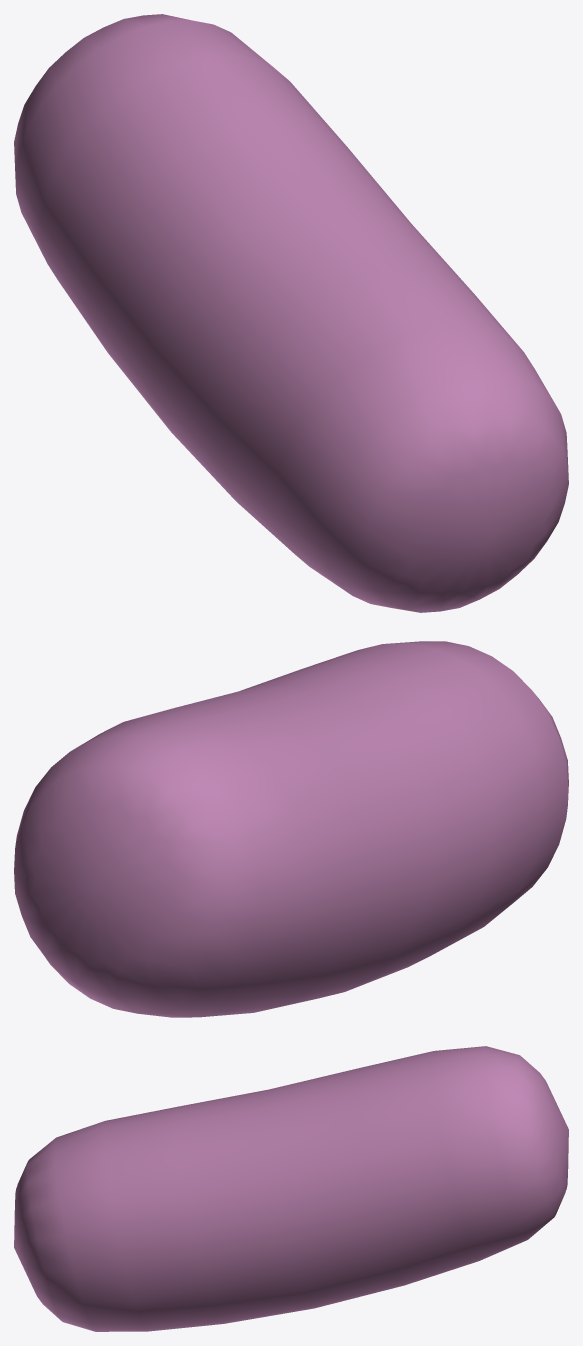
3 views of the same model, one above another, from view 1: azimuth 30°, elevation 25°; view 2: azimuth 150°, elevation 25°; view 3: azimuth 270°, elevation 25° (orthographic). The views are drawn at different scales.
Visible parts, largest first — view 1: 右侧红核; view 2: 右侧红核; view 3: 右侧红核.
Part boxes in pixels (<box>): 右侧红核: <box>14,14,568,612</box>; 右侧红核: <box>14,641,568,1017</box>; 右侧红核: <box>14,1046,568,1331</box>.
Bounding box in the file's own units: 0.00762 × 0.01 × 0.0189.
